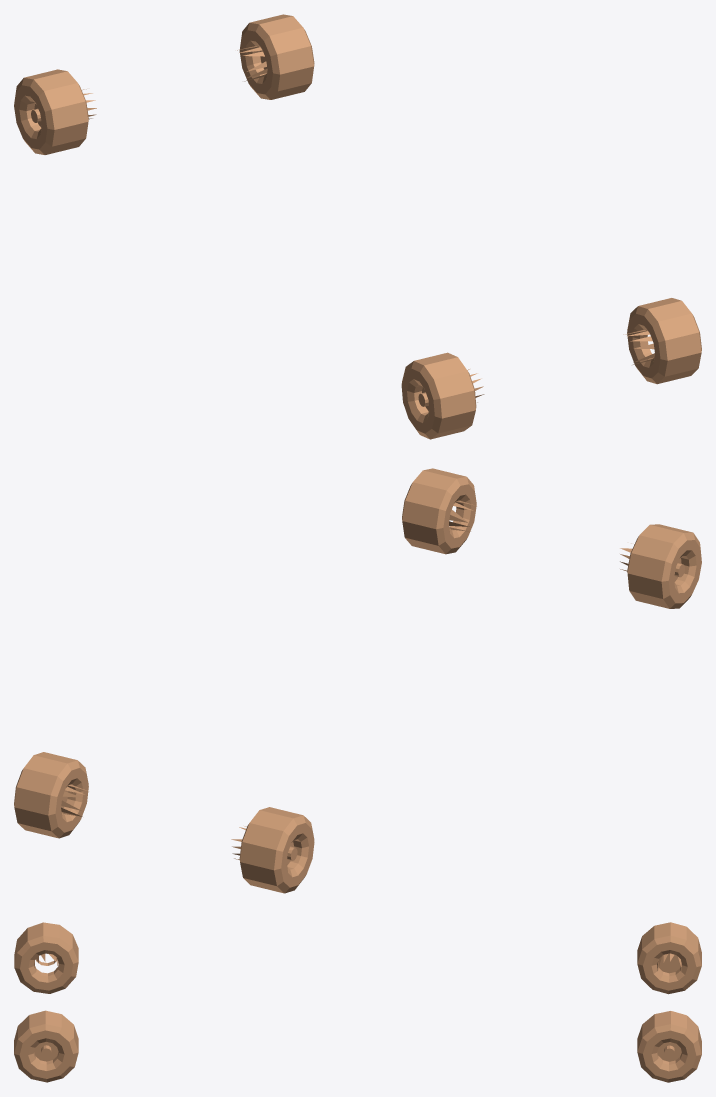
File: peach.glb
3 renders of one model, top to bottom at view 1: azimuth 30°, elevation 25°; view 2: azimuth 150°, elevation 25°; view 3: azimuth 270°, elevation 25°, orthographic. The views are drawn at different scales.
Visible parts, largest first — view 1: WheelFR, WheelRR, WheelFL, WheelRL; view 2: WheelFR, WheelRR, WheelFL, WheelRL; view 3: WheelRL, WheelFL, WheelFR, WheelRR.
Part boxes in pixels (x1,y1,x2,y2): WheelFR: [14, 69, 96, 154]; WheelRR: [401, 352, 484, 439]; WheelFL: [237, 14, 314, 99]; WheelRL: [623, 298, 701, 384]; WheelFR: [231, 807, 314, 893]; WheelRR: [620, 524, 701, 608]; WheelFL: [14, 752, 88, 838]; WheelRL: [402, 468, 476, 554]; WheelRL: [14, 1010, 78, 1082]; WheelFL: [637, 1011, 701, 1082]; WheelFR: [637, 922, 701, 994]; WheelRR: [14, 922, 78, 993].
Size of the model in its own units: 3.29 by 0.8599 by 9.13.
Materials: 1 (1 with a texture image).
